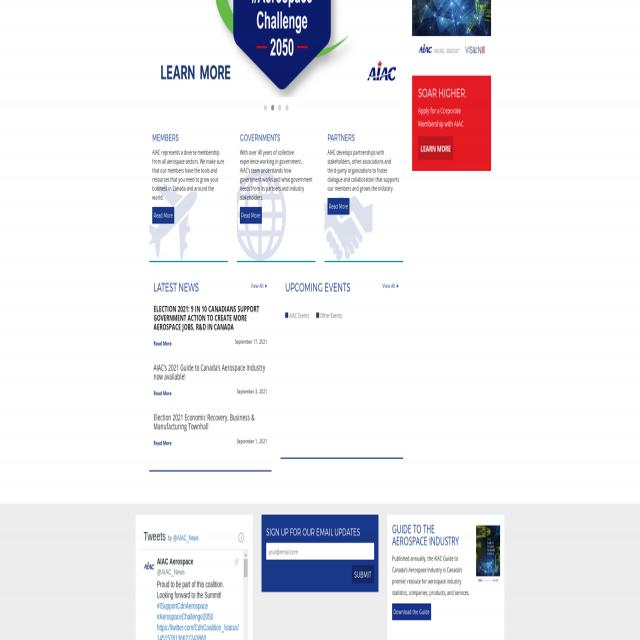button: (412, 0, 491, 75), (476, 526, 500, 585), (418, 136, 454, 160), (392, 603, 431, 620), (152, 206, 174, 224), (240, 206, 262, 224), (352, 566, 374, 584), (328, 198, 350, 215), (143, 557, 155, 576), (276, 102, 284, 114), (269, 102, 276, 114), (262, 102, 268, 114), (284, 102, 290, 114), (238, 532, 244, 544), (244, 559, 248, 577), (244, 549, 248, 560)
field: (266, 544, 374, 560)
